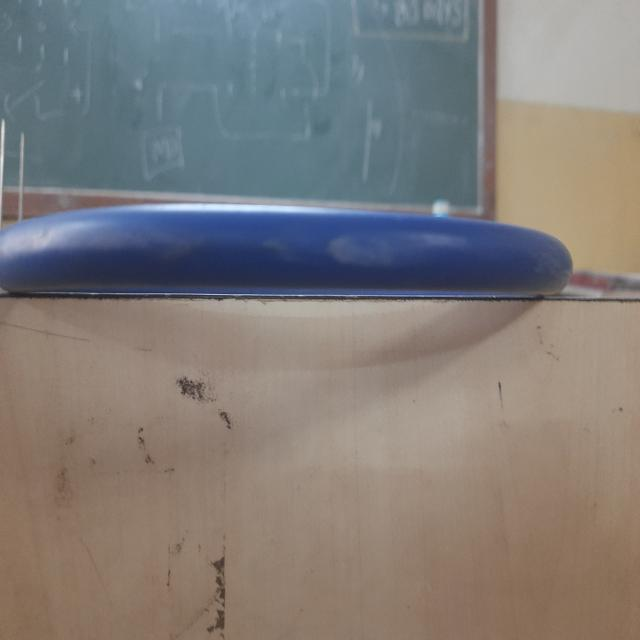daire: (5, 193, 573, 307)
